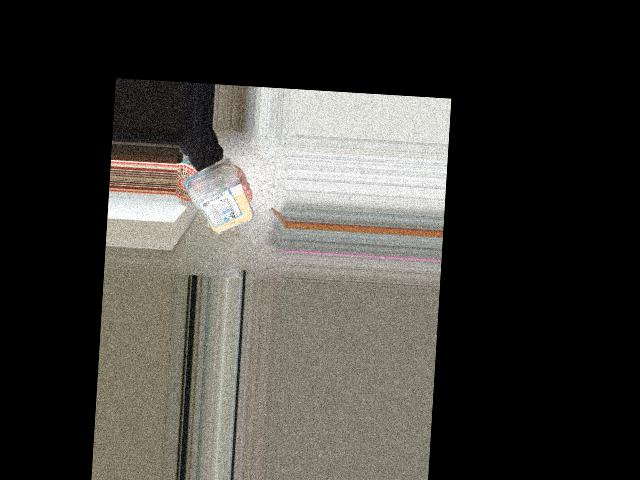cheese: (181, 160, 249, 240)
